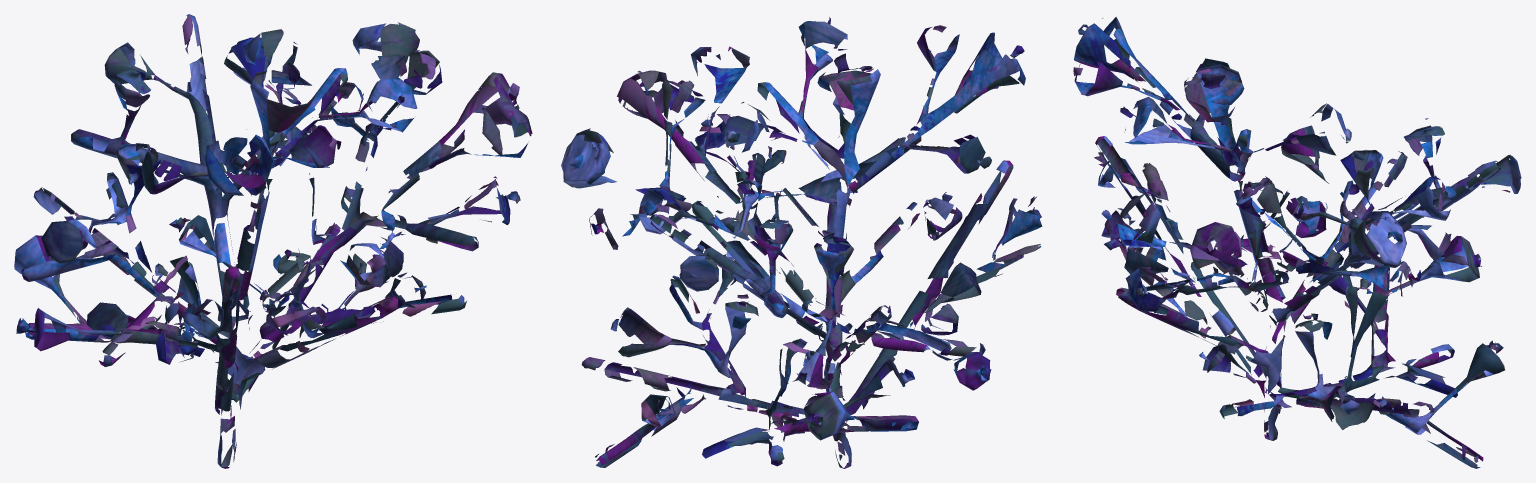
File: plant.fbx
3 views of the same model, side by side, from view 1: azimuth 30°, elevation 25°; view 2: azimuth 150°, elevation 25°; view 3: azimuth 270°, elevation 25° (orthographic). The views are drawn at different scales.
Visible parts, largest first — view 1: MeshLayer; view 2: MeshLayer; view 3: MeshLayer.
Boxes of the visible parts, <box> form: MeshLayer: <box>14,14,532,468</box>; MeshLayer: <box>561,17,1042,468</box>; MeshLayer: <box>1073,17,1521,468</box>.
Size of the model in its own units: 1.02 by 0.9603 by 0.9245.
Materials: 1 (1 with a texture image).
